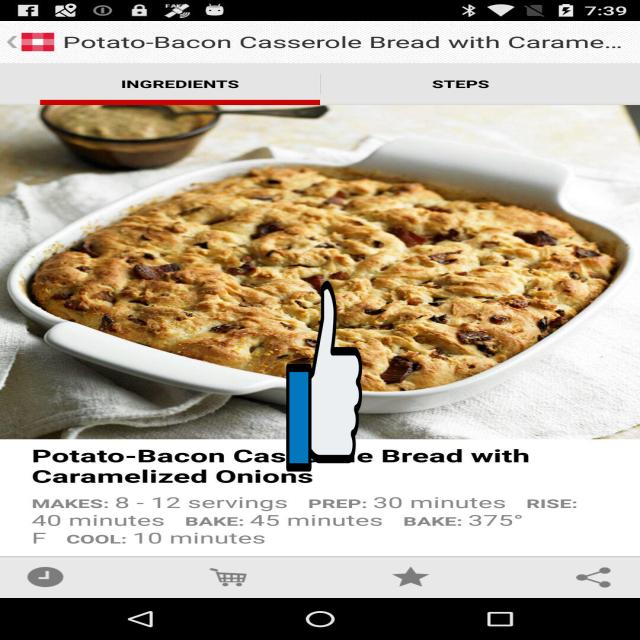privacy zuckering: (286, 276, 362, 476)
